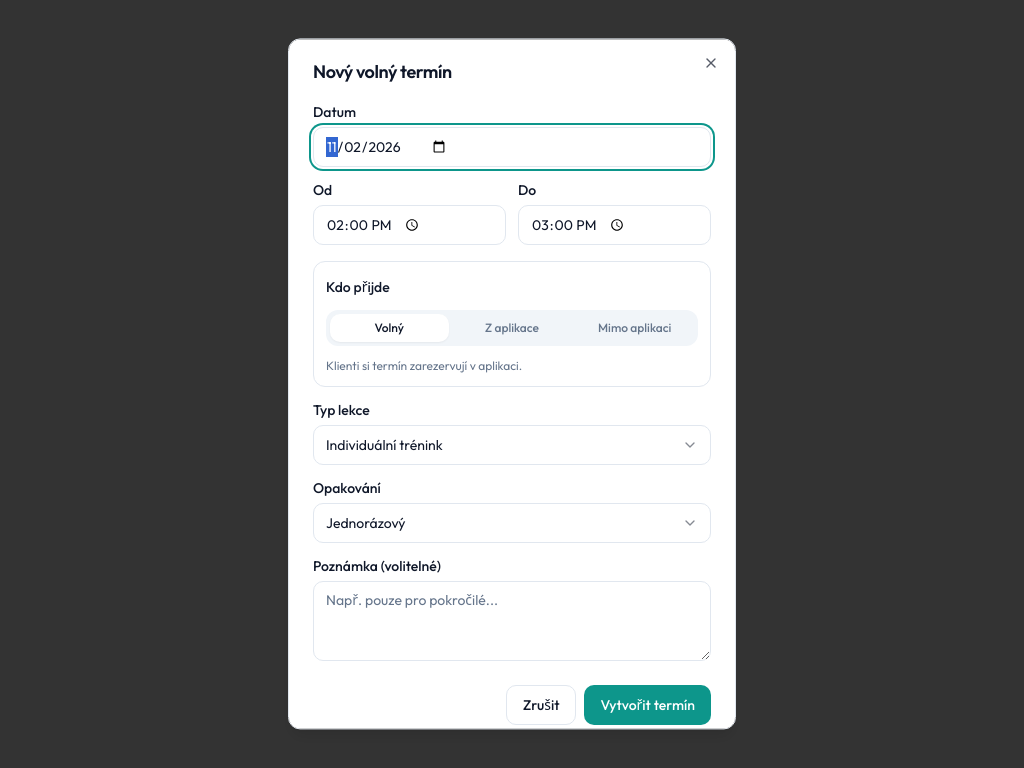
Test case: CreateSlotDialog › prefills the tapped hour, one hour long
The image size is (1024, 768).
Expected: the 2nd time field showing "15:00" is shown, [518,205,711,245]
Step 1. Replace the text in the time field showing "14:00" below "Od" with "16:30" → {"x": 410, "y": 225}, box [313,205,506,245]
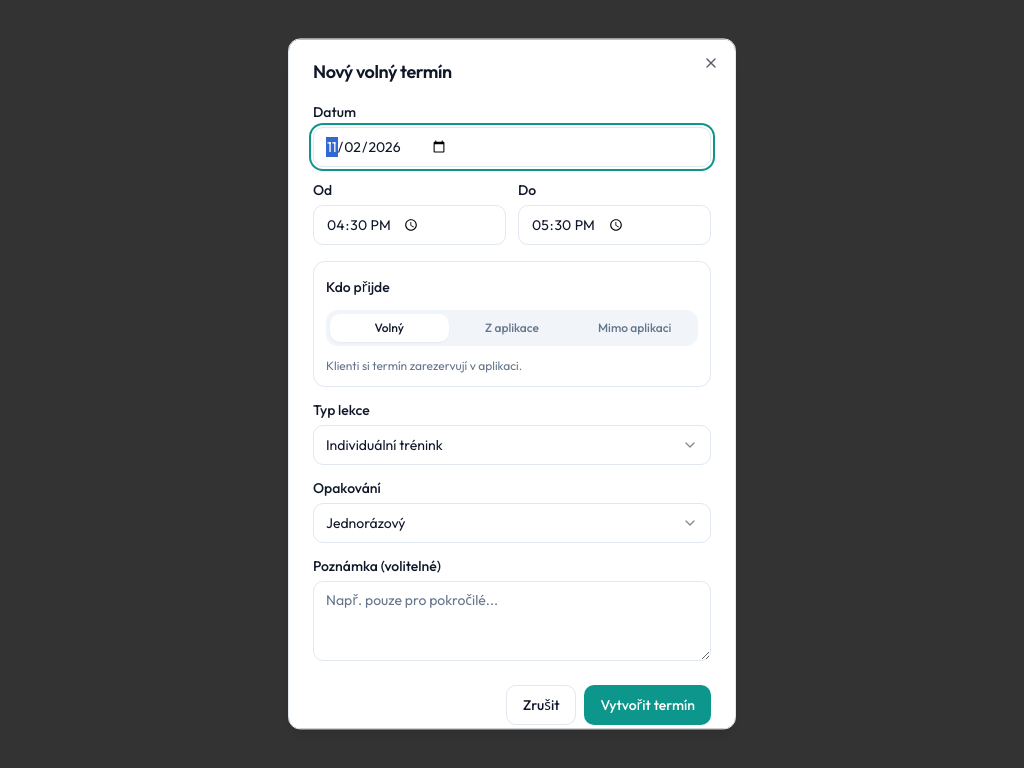
Expected: the 2nd time field showing "17:30" is shown, [518,205,711,245]
